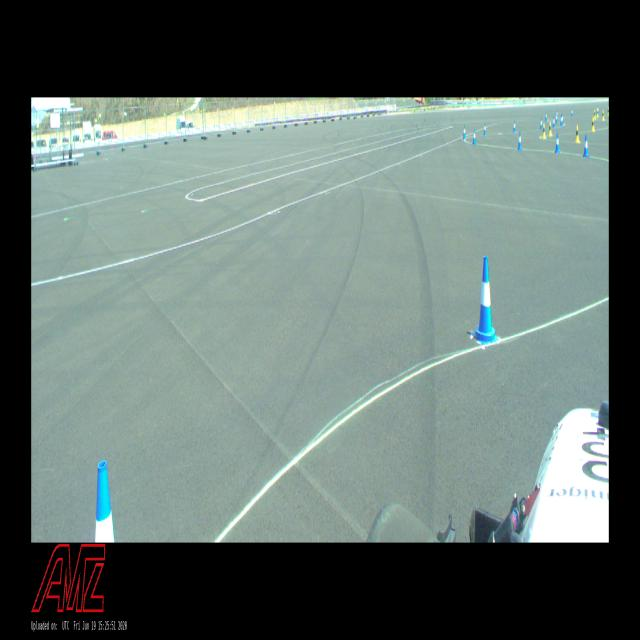blue_cone: (472, 256, 499, 344), (95, 460, 115, 542), (583, 134, 589, 157), (555, 133, 560, 153), (518, 132, 522, 150), (473, 129, 476, 144), (463, 125, 466, 138), (513, 120, 516, 132), (560, 115, 563, 126), (484, 122, 486, 136), (553, 116, 555, 128), (540, 118, 542, 130), (556, 114, 558, 123), (571, 109, 573, 116), (562, 114, 563, 125), (546, 112, 547, 120), (557, 111, 558, 119), (598, 107, 598, 114)
yellow_cone: (575, 125, 580, 143), (542, 123, 546, 139), (591, 118, 595, 132), (548, 122, 552, 136), (602, 110, 605, 120), (596, 108, 599, 117), (594, 109, 596, 119), (607, 107, 609, 116)
